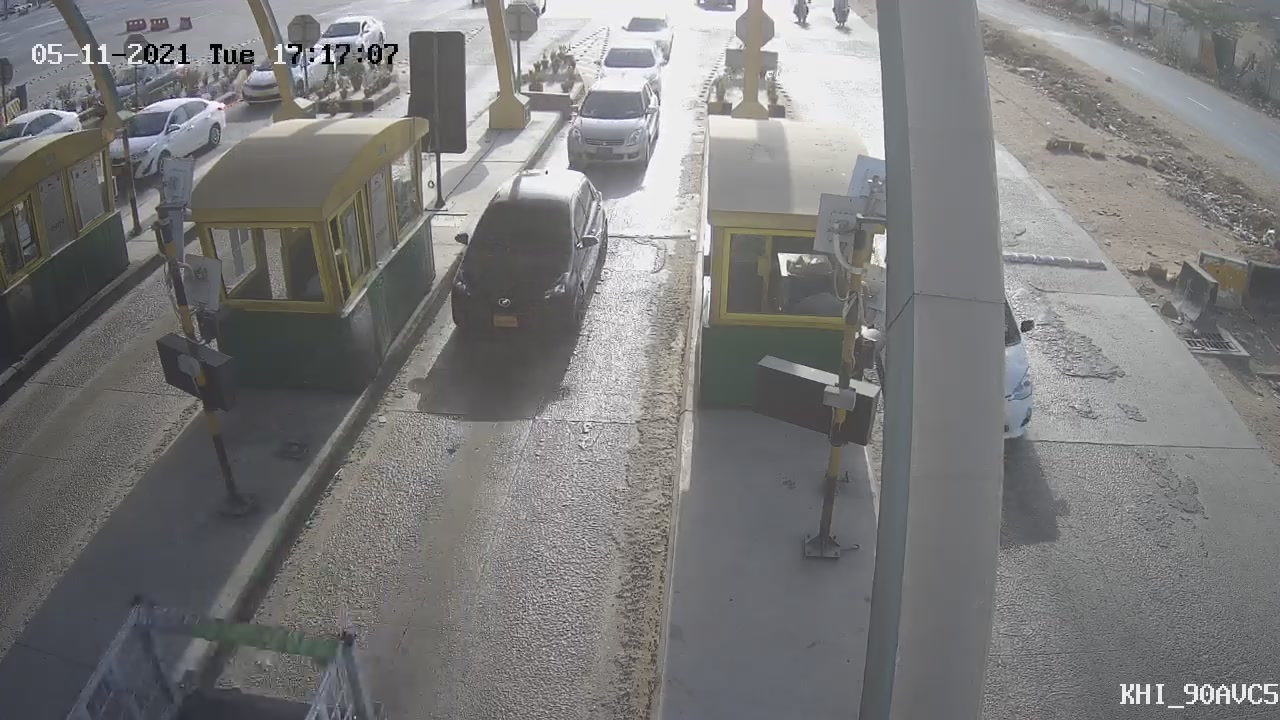F1: (425, 156, 626, 362), (553, 65, 672, 185)
